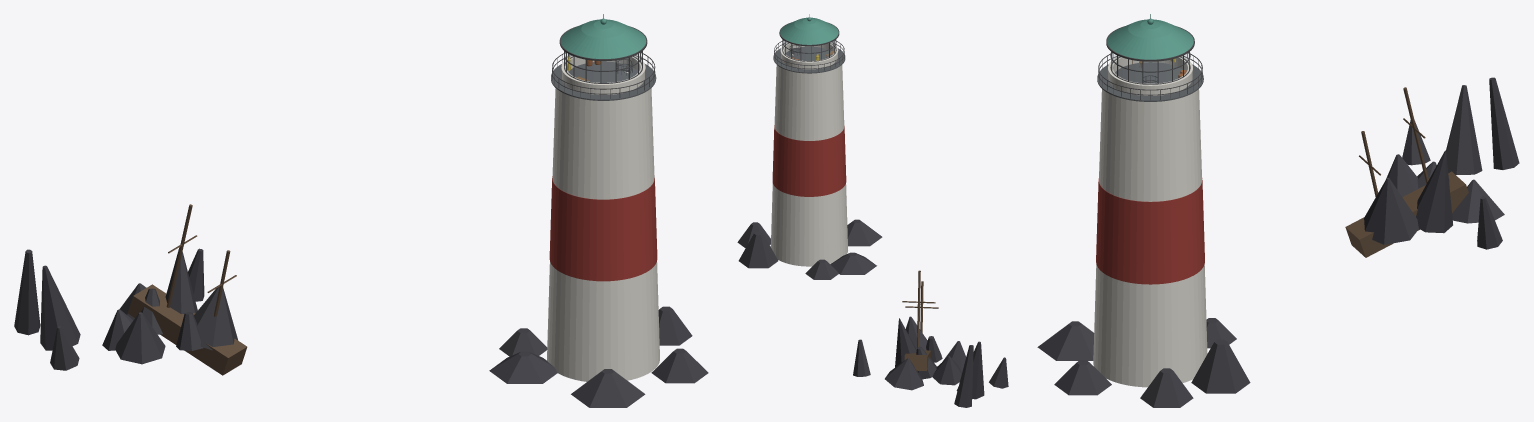
The model's file is Lighthouse_Room.fbx.
3 renders of one model, left to right at view 1: azimuth 30°, elevation 25°; view 2: azimuth 150°, elevation 25°; view 3: azimuth 270°, elevation 25°, orthographic. The views are drawn at different scales.
Visible parts, largest first — view 1: LH_TowerWhite, LH_Rocks, LH_TowerBand, LH_Wreck, LH_Dome, LH_Parapet, LH_GalleryDeck, LH_Floor, LH_GalleryRail; view 2: LH_TowerWhite, LH_Rocks, LH_TowerBand, LH_Dome, LH_Wreck, LH_Parapet, LH_GalleryDeck, LH_Floor, LH_GalleryRail, LH_GlazingFrame; view 3: LH_TowerWhite, LH_Rocks, LH_TowerBand, LH_Dome, LH_Wreck, LH_Parapet, LH_GalleryDeck, LH_Floor, LH_GalleryRail, LH_GlazingFrame.
Boxes of the visible parts, <box> form: LH_TowerWhite: <box>547,71,659,381</box>; LH_Rocks: <box>14,247,708,407</box>; LH_TowerBand: <box>549,176,657,281</box>; LH_Wreck: <box>127,204,247,375</box>; LH_Dome: <box>561,14,646,58</box>; LH_Parapet: <box>561,55,645,94</box>; LH_GalleryDeck: <box>551,64,656,100</box>; LH_Floor: <box>568,61,637,82</box>; LH_GalleryRail: <box>552,52,655,98</box>; LH_TowerWhite: <box>770,54,847,266</box>; LH_Rocks: <box>737,219,1008,407</box>; LH_TowerBand: <box>772,125,846,196</box>; LH_Dome: <box>780,14,838,44</box>; LH_Wreck: <box>902,270,938,370</box>; LH_Parapet: <box>780,42,838,69</box>; LH_GalleryDeck: <box>773,48,845,73</box>; LH_Floor: <box>785,46,832,60</box>; LH_GalleryRail: <box>774,40,844,71</box>; LH_GlazingFrame: <box>782,39,836,61</box>; LH_TowerWhite: <box>1093,89,1207,387</box>; LH_Rocks: <box>1037,77,1519,407</box>; LH_TowerBand: <box>1096,178,1204,284</box>; LH_Dome: <box>1107,14,1193,59</box>; LH_Wreck: <box>1345,87,1468,257</box>; LH_Parapet: <box>1108,56,1192,95</box>; LH_GalleryDeck: <box>1097,64,1203,101</box>; LH_Floor: <box>1115,62,1182,83</box>; LH_GalleryRail: <box>1098,52,1202,99</box>; LH_GlazingFrame: <box>1110,52,1190,84</box>.
Size of what is drawn, in the model's own units: 53.15 by 36.35 by 42.93.
